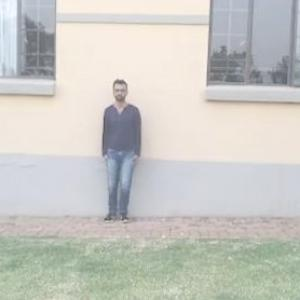follow: (102, 76, 144, 225)
